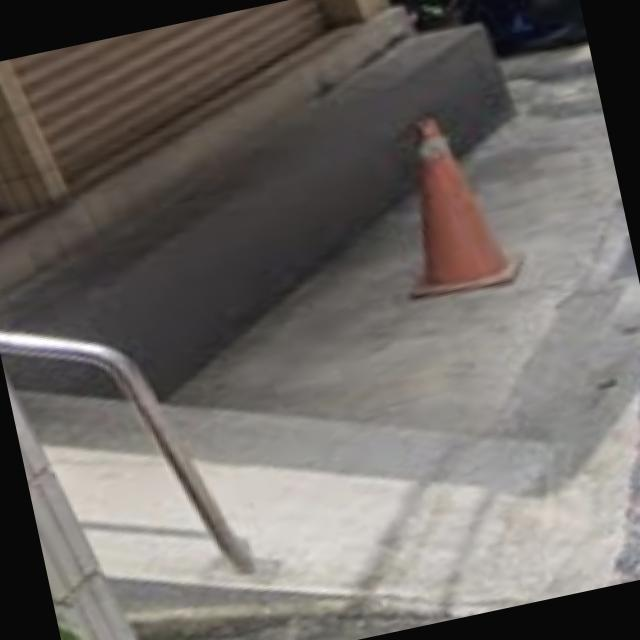cone: (378, 91, 524, 303)
